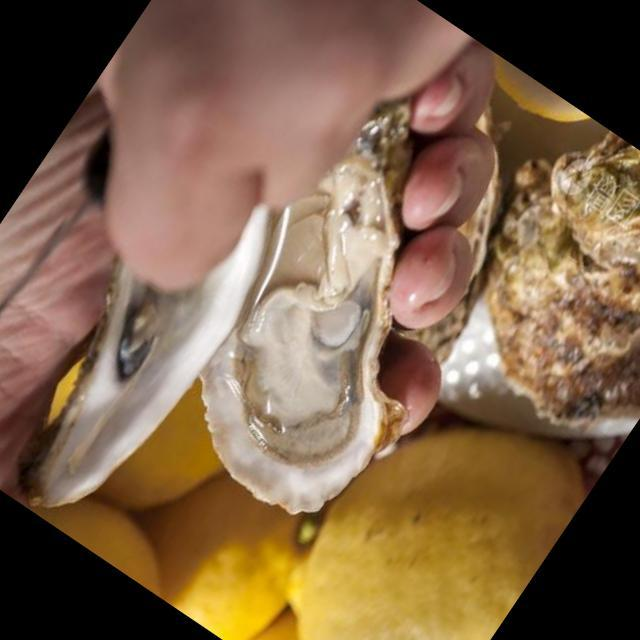Oyster- Indeterminate: (411, 100, 640, 463)
Oyster-Open: (0, 21, 554, 640)
